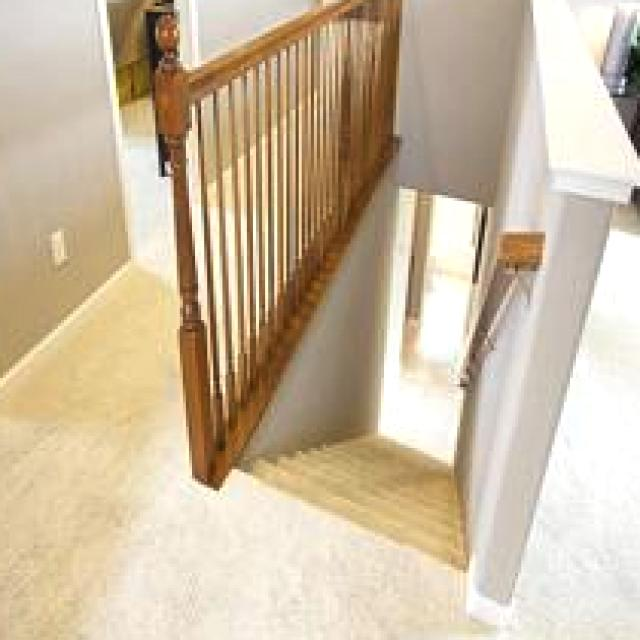downstair: (230, 358, 477, 589)
